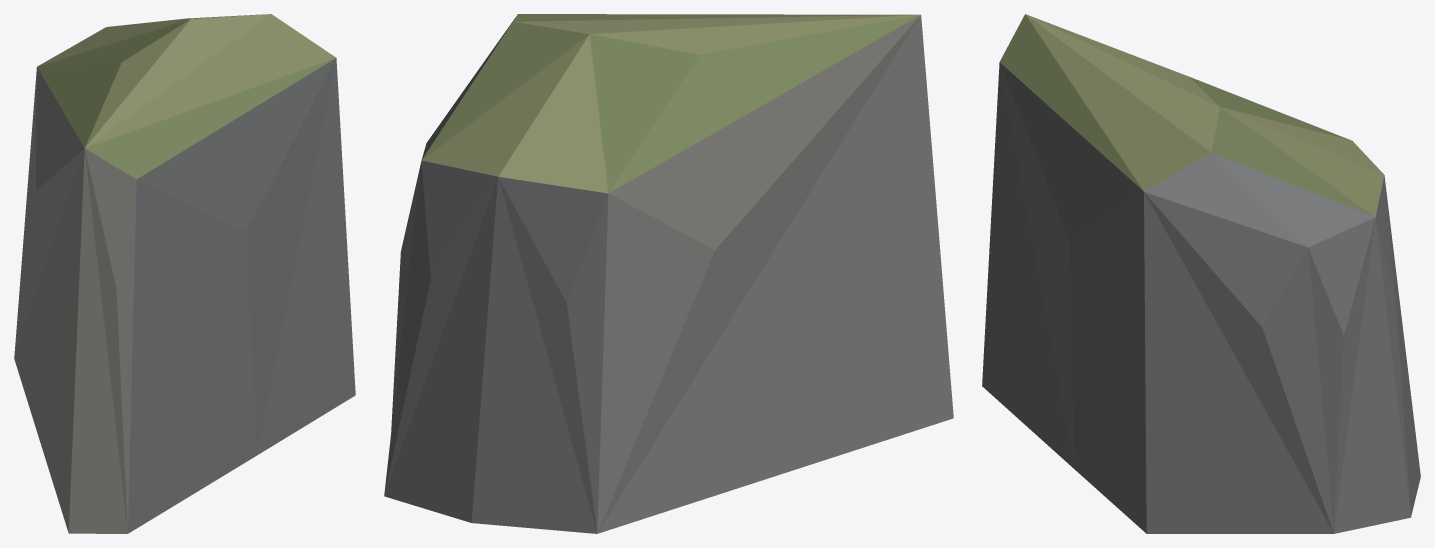
File: cliff_eastern_plateau.glb
3 renders of one model, left to right at view 1: azimuth 30°, elevation 25°; view 2: azimuth 150°, elevation 25°; view 3: azimuth 270°, elevation 25°, orthographic. The views are drawn at different scales.
Parts seen in each view (by area): view 1: cliff_eastern_plateau; view 2: cliff_eastern_plateau; view 3: cliff_eastern_plateau.
Boxes of the visible parts, x1,y1,x2,y2 form: cliff_eastern_plateau: (14, 14, 355, 533); cliff_eastern_plateau: (384, 14, 953, 533); cliff_eastern_plateau: (982, 14, 1420, 533).
Bounding box in the file's own units: 72.83 × 74 × 80.13.
